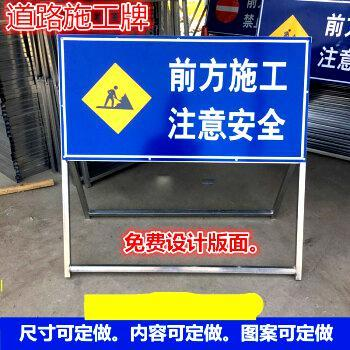sign: (59, 36, 311, 162)
